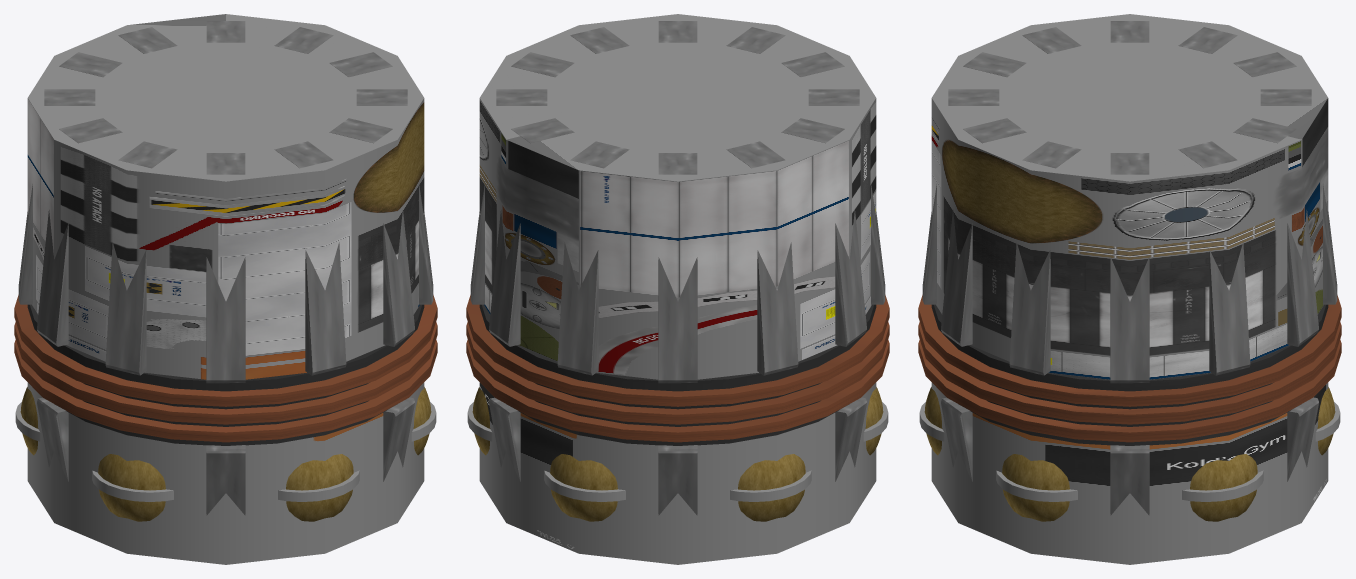
The model's file is FusionReactor.FBX.
The picture shows the model from 3 angles, left to right: view 1: azimuth 30°, elevation 25°; view 2: azimuth 150°, elevation 25°; view 3: azimuth 270°, elevation 25°; orthographic projection.
Visible parts, largest first — view 1: Cylinder004, CopperTube001, CopperTube002, CopperTube003, Cylinder002, Electromagnet026, Electromagnet025, Electromagnet027, Electromagnet028, Electromagnet024, D3H3Tank005, D3H3Tank004 (+14 smaller); view 2: Cylinder004, CopperTube001, CopperTube002, CopperTube003, Cylinder002, Electromagnet022, Electromagnet021, Electromagnet023, Electromagnet024, Electromagnet020, D3H3Tank003, D3H3Tank002 (+14 smaller); view 3: Cylinder004, CopperTube001, CopperTube002, CopperTube003, Cylinder002, Electromagnet001, Electromagnet029, Electromagnet019, Electromagnet020, Electromagnet028, D3H3Tank001, D3H3Tank006 (+14 smaller).
Boxes of the visible parts, x1,y1,x2,y2 form: Cylinder004: [27, 14, 424, 564]; CopperTube001: [14, 295, 437, 406]; CopperTube002: [14, 322, 437, 424]; CopperTube003: [14, 340, 437, 442]; Cylinder002: [27, 304, 424, 445]; Electromagnet026: [206, 153, 245, 383]; Electromagnet025: [105, 141, 177, 375]; Electromagnet027: [274, 141, 346, 375]; Electromagnet028: [329, 118, 414, 346]; Electromagnet024: [37, 118, 122, 346]; D3H3Tank005: [286, 454, 353, 521]; D3H3Tank004: [98, 454, 165, 521]; Cylinder004: [479, 14, 876, 564]; CopperTube001: [466, 295, 889, 406]; CopperTube002: [466, 322, 889, 424]; CopperTube003: [466, 340, 889, 442]; Cylinder002: [479, 304, 876, 445]; Electromagnet022: [658, 153, 697, 383]; Electromagnet021: [557, 141, 629, 375]; Electromagnet023: [726, 141, 798, 375]; Electromagnet024: [781, 118, 866, 346]; Electromagnet020: [489, 118, 574, 346]; D3H3Tank003: [738, 454, 805, 521]; D3H3Tank002: [550, 454, 617, 521]; Cylinder004: [931, 14, 1328, 564]; CopperTube001: [918, 295, 1341, 406]; CopperTube002: [918, 322, 1341, 424]; CopperTube003: [918, 340, 1341, 442]; Cylinder002: [931, 304, 1328, 445]; Electromagnet001: [1110, 153, 1149, 383]; Electromagnet029: [1009, 141, 1081, 375]; Electromagnet019: [1178, 141, 1250, 375]; Electromagnet020: [1233, 118, 1318, 346]; Electromagnet028: [941, 118, 1026, 346]; D3H3Tank001: [1190, 454, 1257, 521]; D3H3Tank006: [1002, 454, 1069, 521].
Bounding box in the file's own units: 2 × 2 × 2.
1 material, 1 textured.
